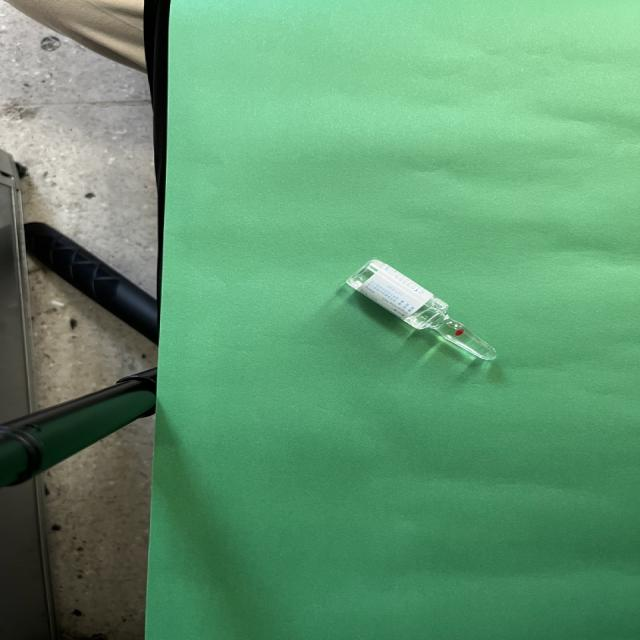Ampoules: (346, 259, 495, 360)
